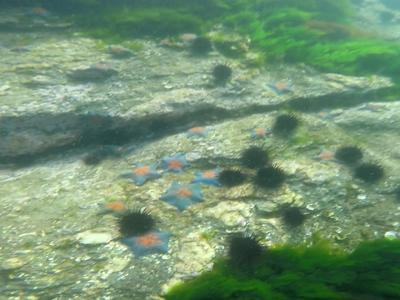urchin: (230, 234, 263, 265), (116, 211, 157, 235), (355, 166, 382, 185), (258, 167, 281, 188), (275, 115, 299, 134), (218, 169, 243, 187), (334, 144, 360, 161), (191, 36, 213, 55), (285, 207, 305, 227), (245, 148, 265, 167), (215, 63, 232, 82)
